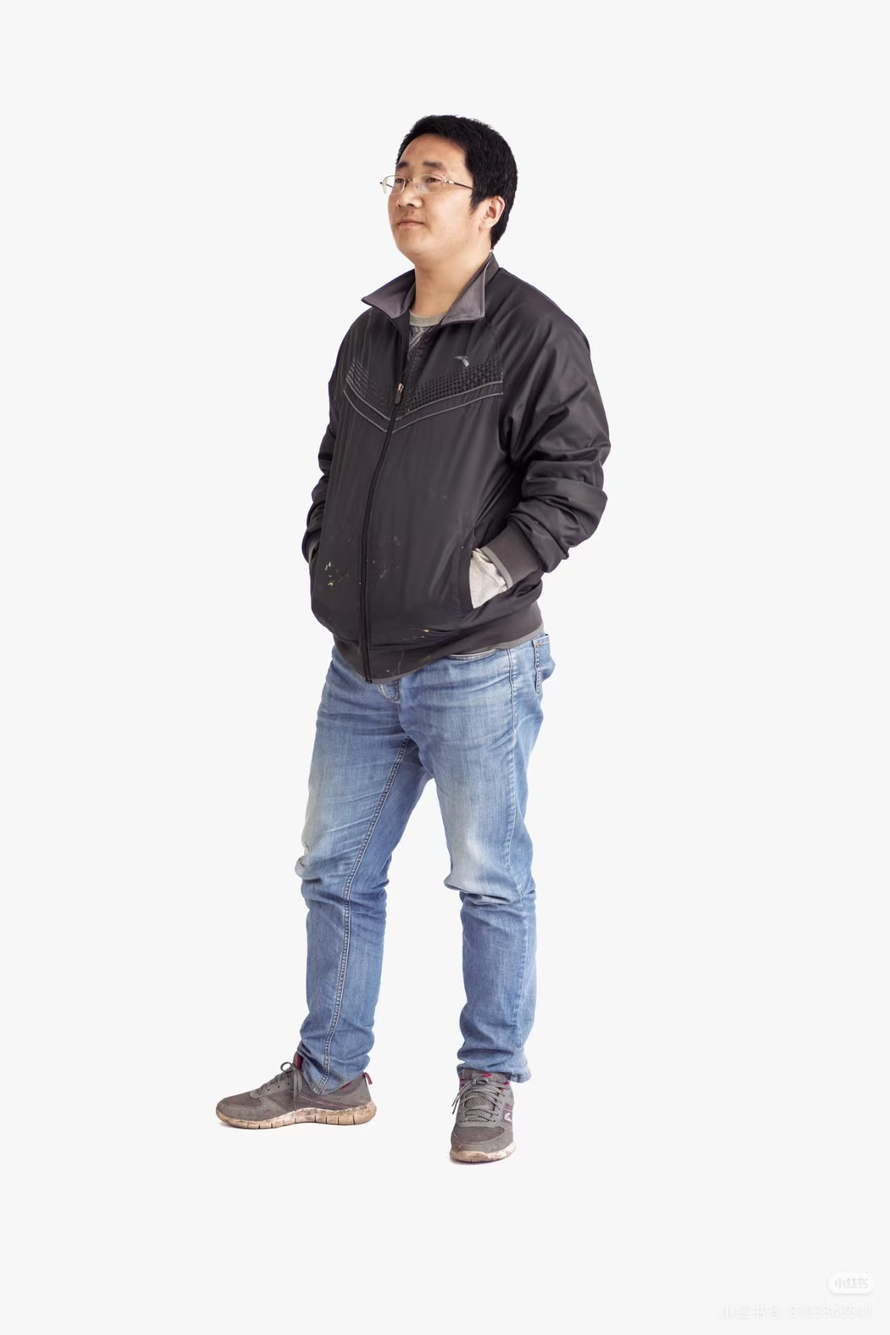up: (204, 81, 623, 1192)
